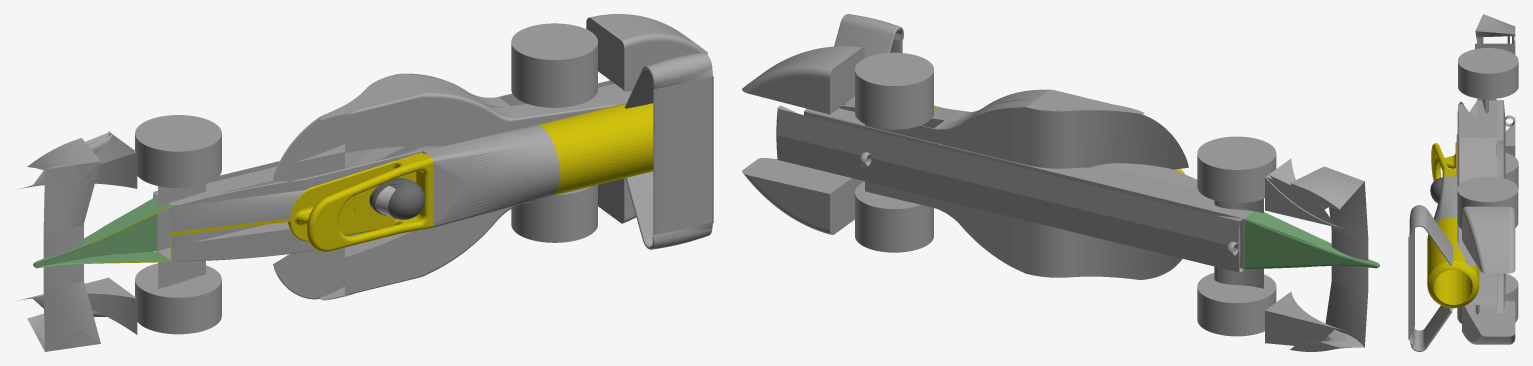
The model's file is Coche2025.glb.
3 renders of one model, left to right at view 1: azimuth 30°, elevation 25°; view 2: azimuth 150°, elevation 25°; view 3: azimuth 270°, elevation 25°, orthographic. The views are drawn at different scales.
Visible parts, largest first — view 1: empty_2; view 2: empty_2; view 3: empty_2.
Part boxes in pixels (x1,y1,x2,y2): empty_2: [17, 14, 713, 351]; empty_2: [742, 14, 1379, 351]; empty_2: [1408, 14, 1518, 351].
Bounding box in the file's own units: 252 × 65.7 × 50.73.
